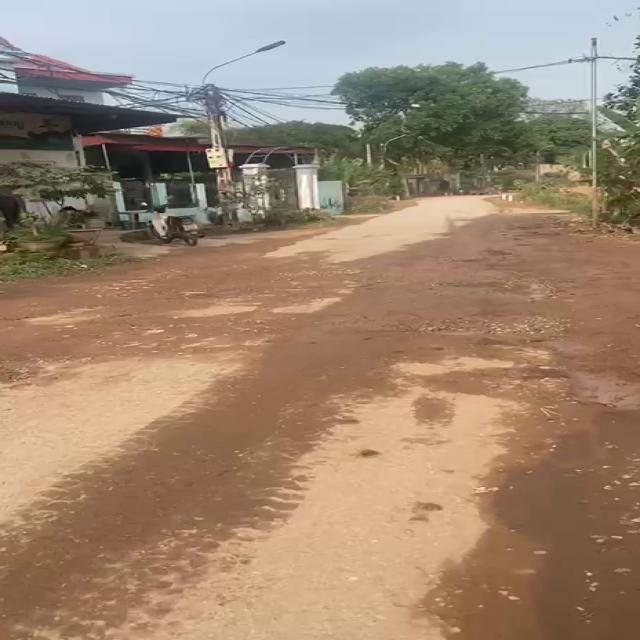Pothole: (417, 220, 591, 505)
